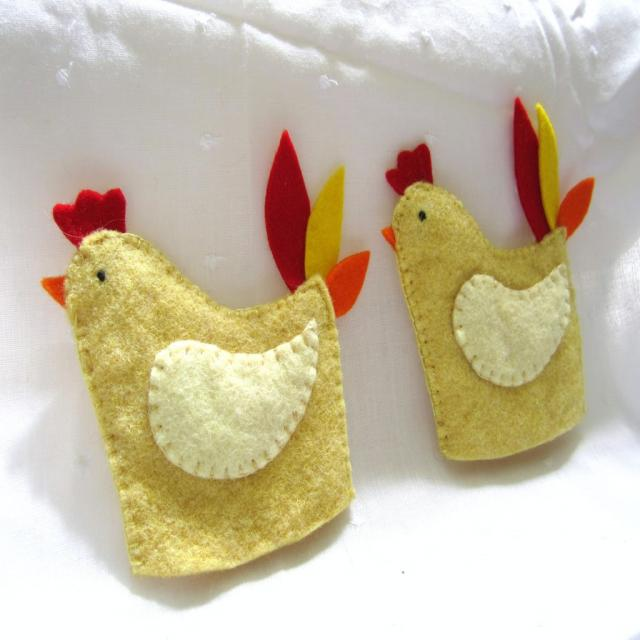Chicken: (377, 101, 596, 472)
